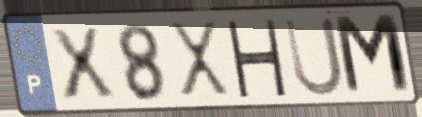8: (112, 21, 168, 104)
H: (222, 18, 290, 99)
M: (330, 11, 417, 99)
U: (280, 14, 347, 99)
X: (45, 24, 119, 103), (166, 18, 233, 101)
